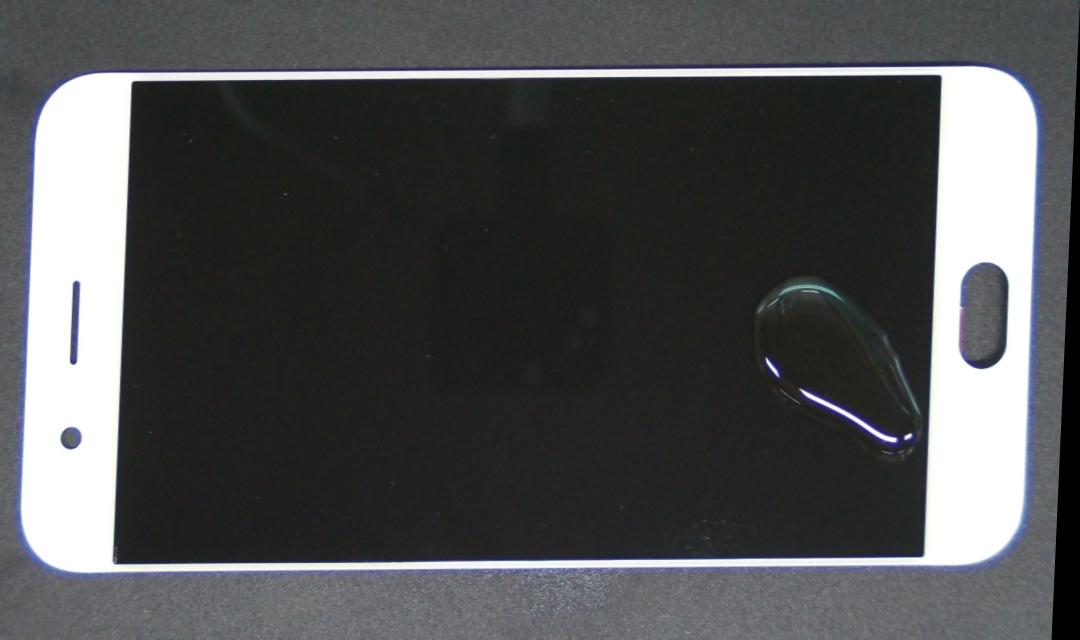oil: (729, 255, 942, 497)
